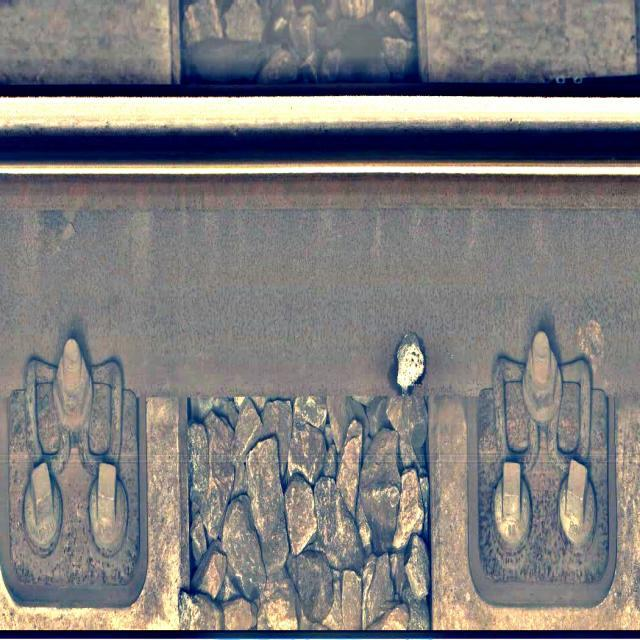Good Fasteners: (468, 330, 615, 606)
